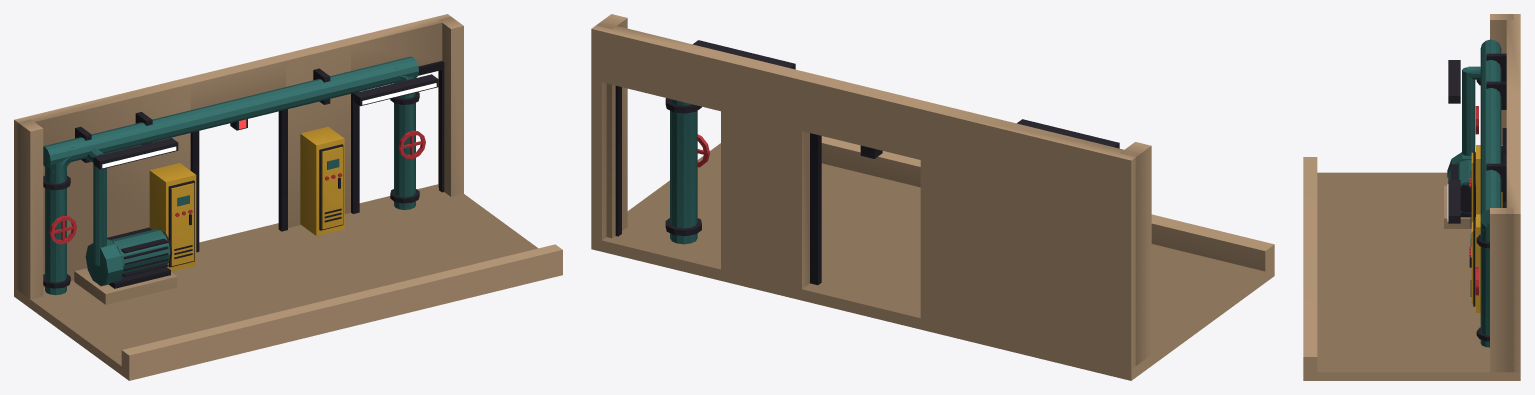
The model's file is kit.maintenance-corridor.lod1.glb.
3 views of the same model, side by side, from view 1: azimuth 30°, elevation 25°; view 2: azimuth 150°, elevation 25°; view 3: azimuth 270°, elevation 25° (orthographic). The views are drawn at different scales.
Parts seen in each view (by area): view 1: body, body_emi_picketWhite; view 2: body; view 3: body.
Part boxes in pixels (x1,y1,x2,y2): body: (14,14,562,380); body_emi_picketWhite: (102,83,436,168); body: (591,14,1274,380); body: (1303,14,1520,380).
Bounding box in the file's own units: 10 × 3.9 × 4.6.
